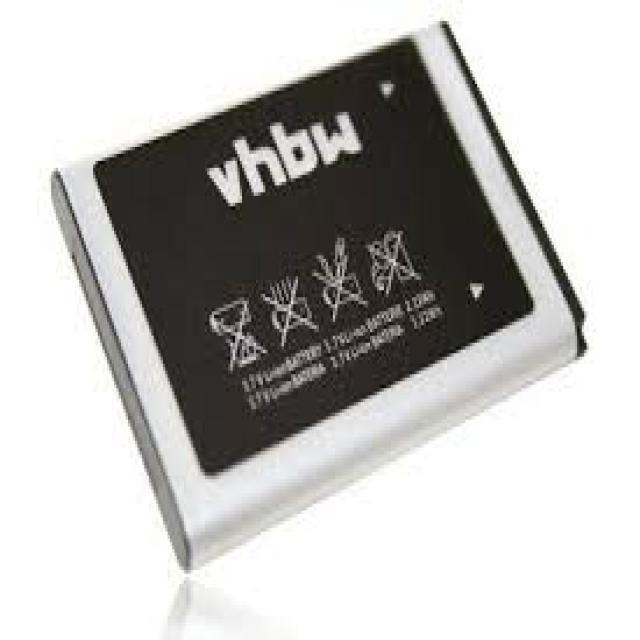Battery: (39, 8, 640, 574)
